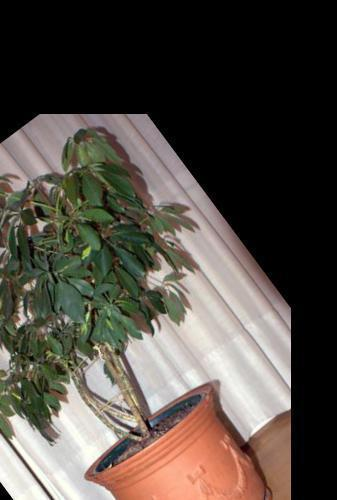Matera: (0, 87, 337, 500)
